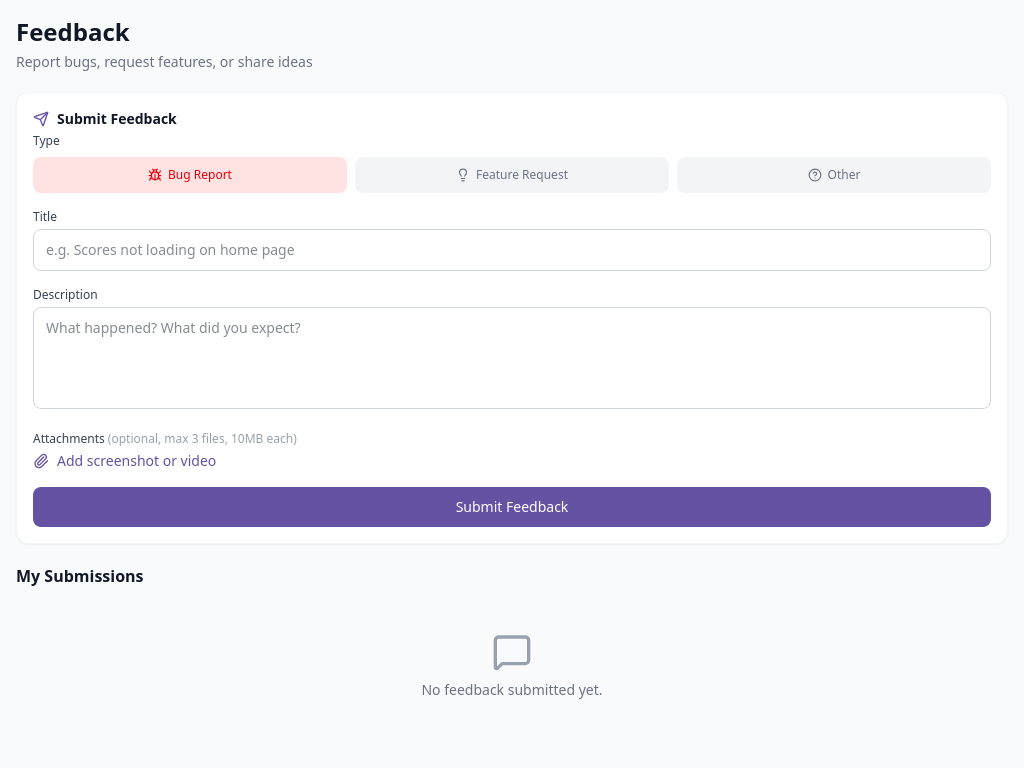
Feedback Page › switches feedback type when clicking type buttons
Click the button "Feature Request".
click(512, 175)  # box [355,157,669,193]
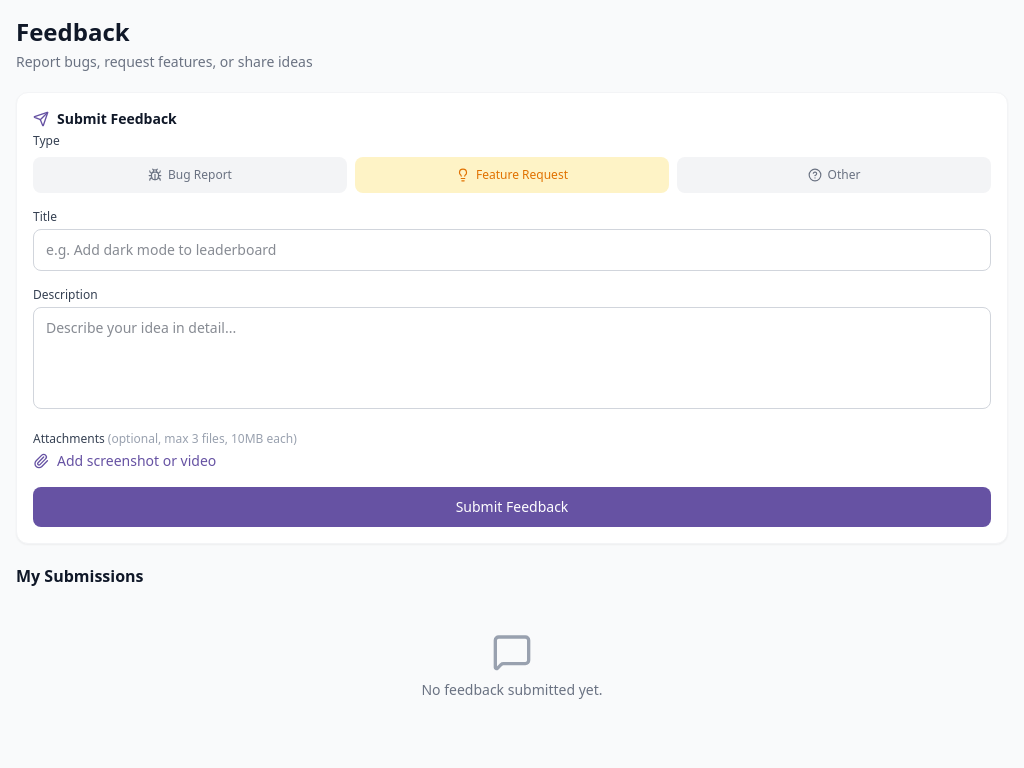
Now the field with placeholder "e.g. Add dark mode to leaderboard" is shown, box [33,229,991,271]
